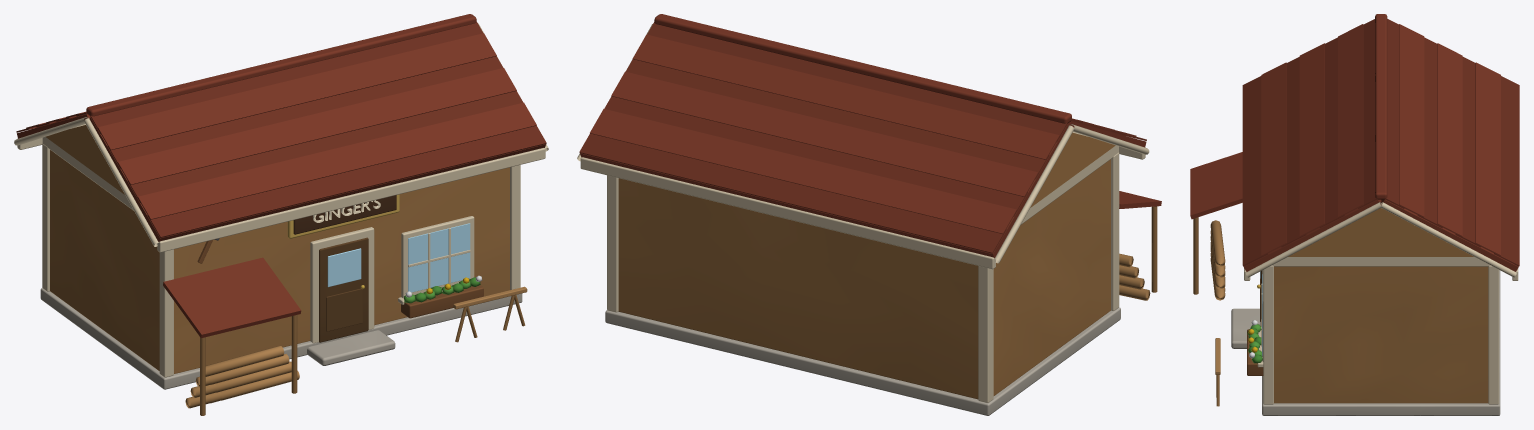
Rendered from bld_builder.glb.
The picture shows the model from 3 angles, left to right: view 1: azimuth 30°, elevation 25°; view 2: azimuth 150°, elevation 25°; view 3: azimuth 270°, elevation 25°; orthographic projection. The views are drawn at different scales.
Visible parts, largest first — view 1: bld_builder_main, bld_builder_glass; view 2: bld_builder_main; view 3: bld_builder_main.
Part boxes in pixels (x1,y1,x2,y2): bld_builder_main: (14, 14, 548, 415); bld_builder_glass: (327, 223, 470, 292); bld_builder_main: (577, 14, 1161, 415); bld_builder_main: (1190, 14, 1519, 415).
Size of the model in its own units: 4.95 by 2.88 by 3.73.
